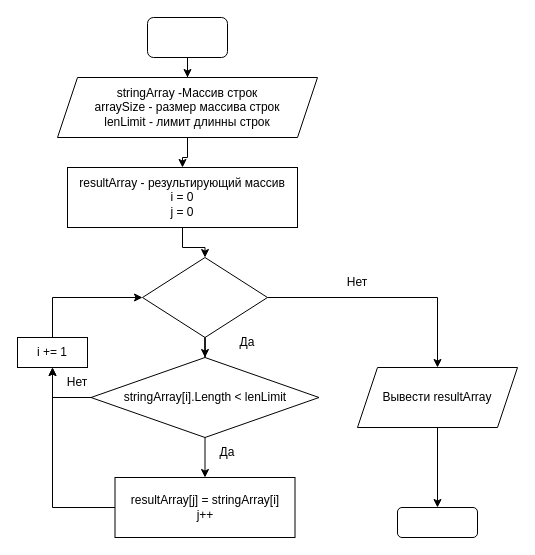
This 535x555 diagram has some shape labels left out. The centre of each missing label's shape, as x and y in pixels:
i < arraySize: the point at 205,297
Конец: the point at 437,522
Начало: the point at 187,37
